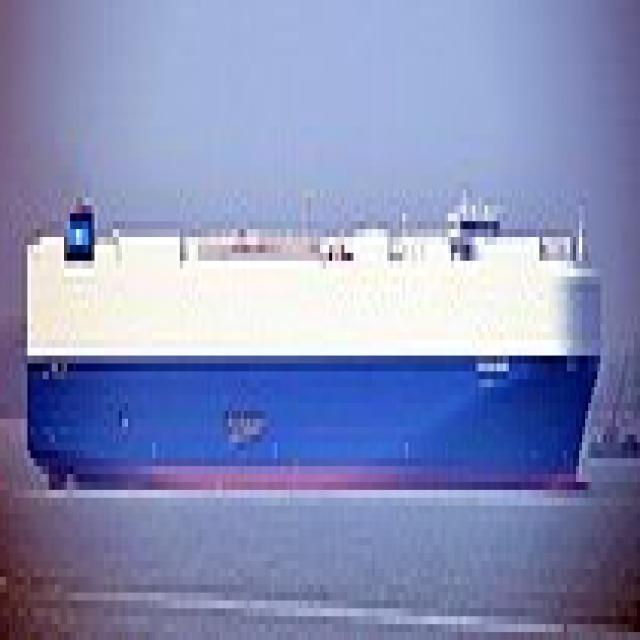Carrier: (28, 166, 610, 506)
